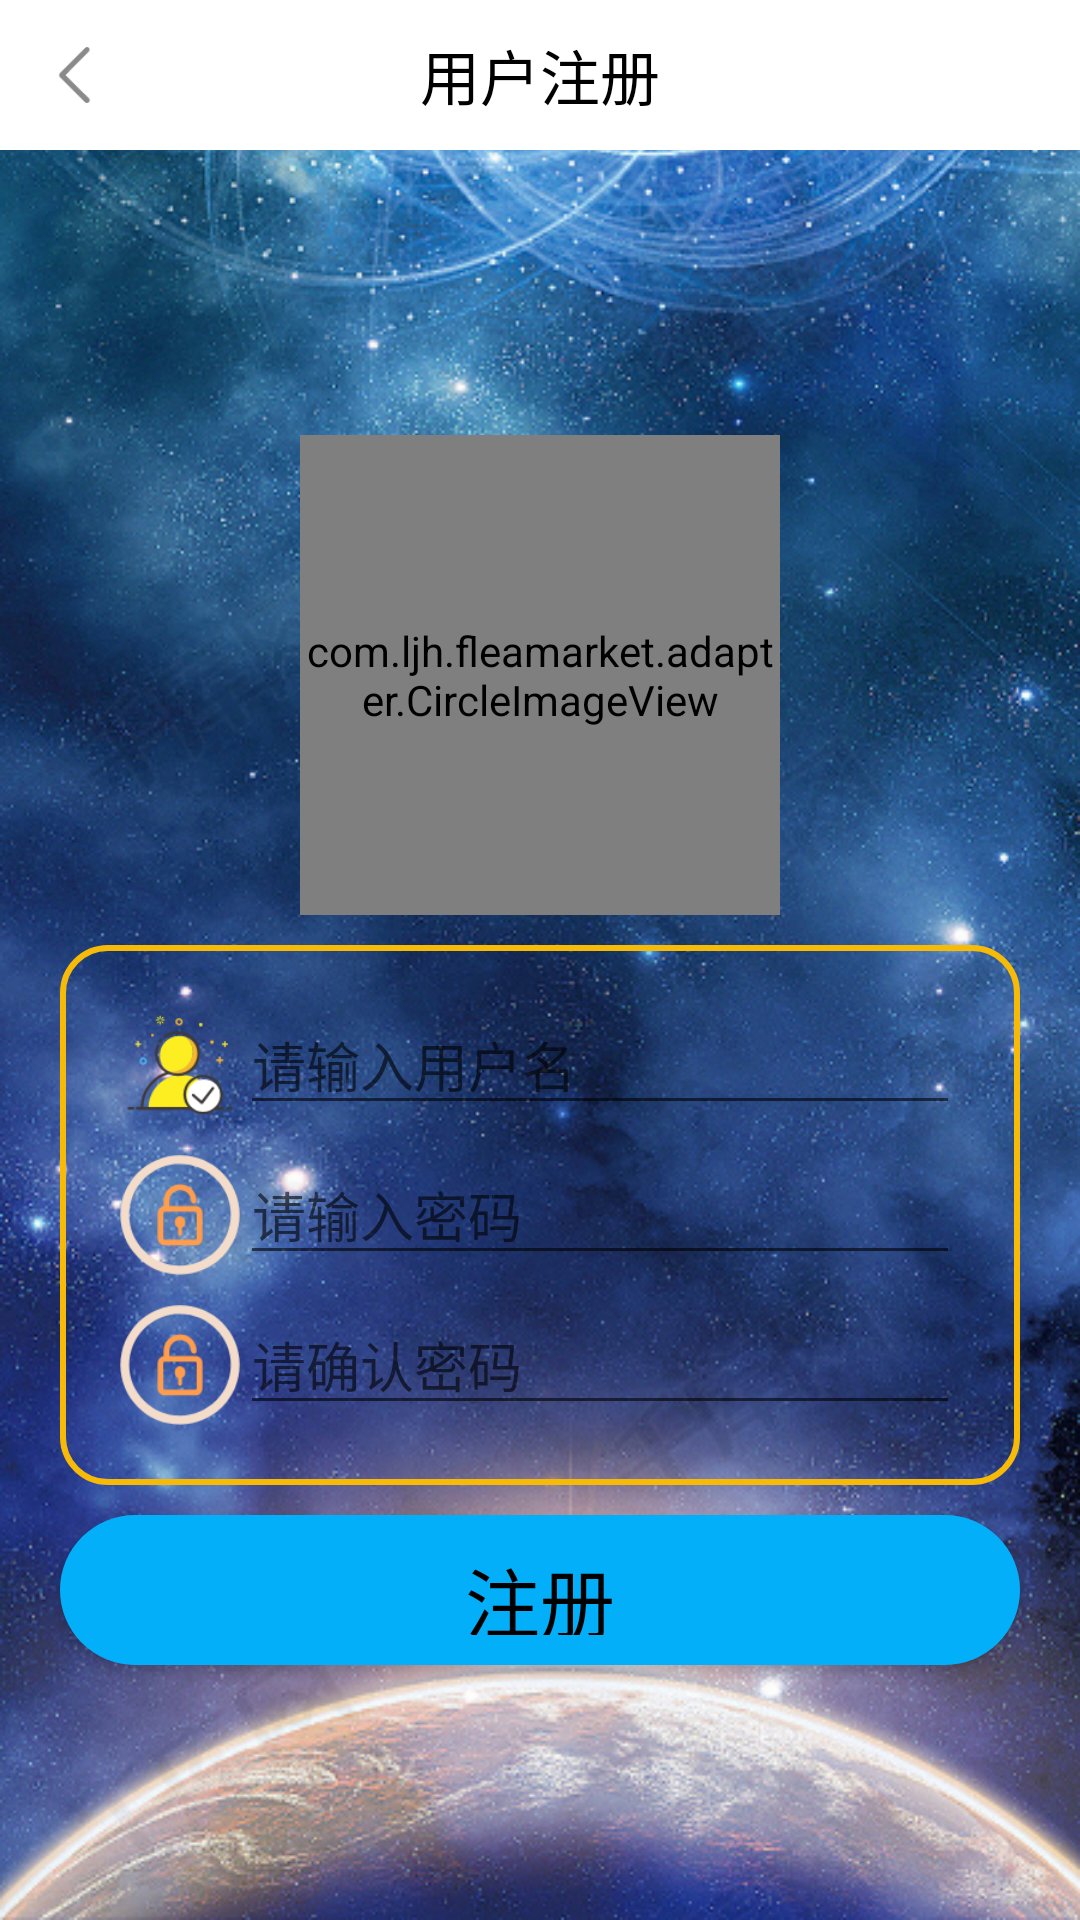

Point at icon controls on the screen. Image size 1080px x 1920px, points as (x=x, y=y).
arrow back: (x=74, y=75)
password: (x=180, y=1215), (x=180, y=1365)
user: (x=180, y=1066)
